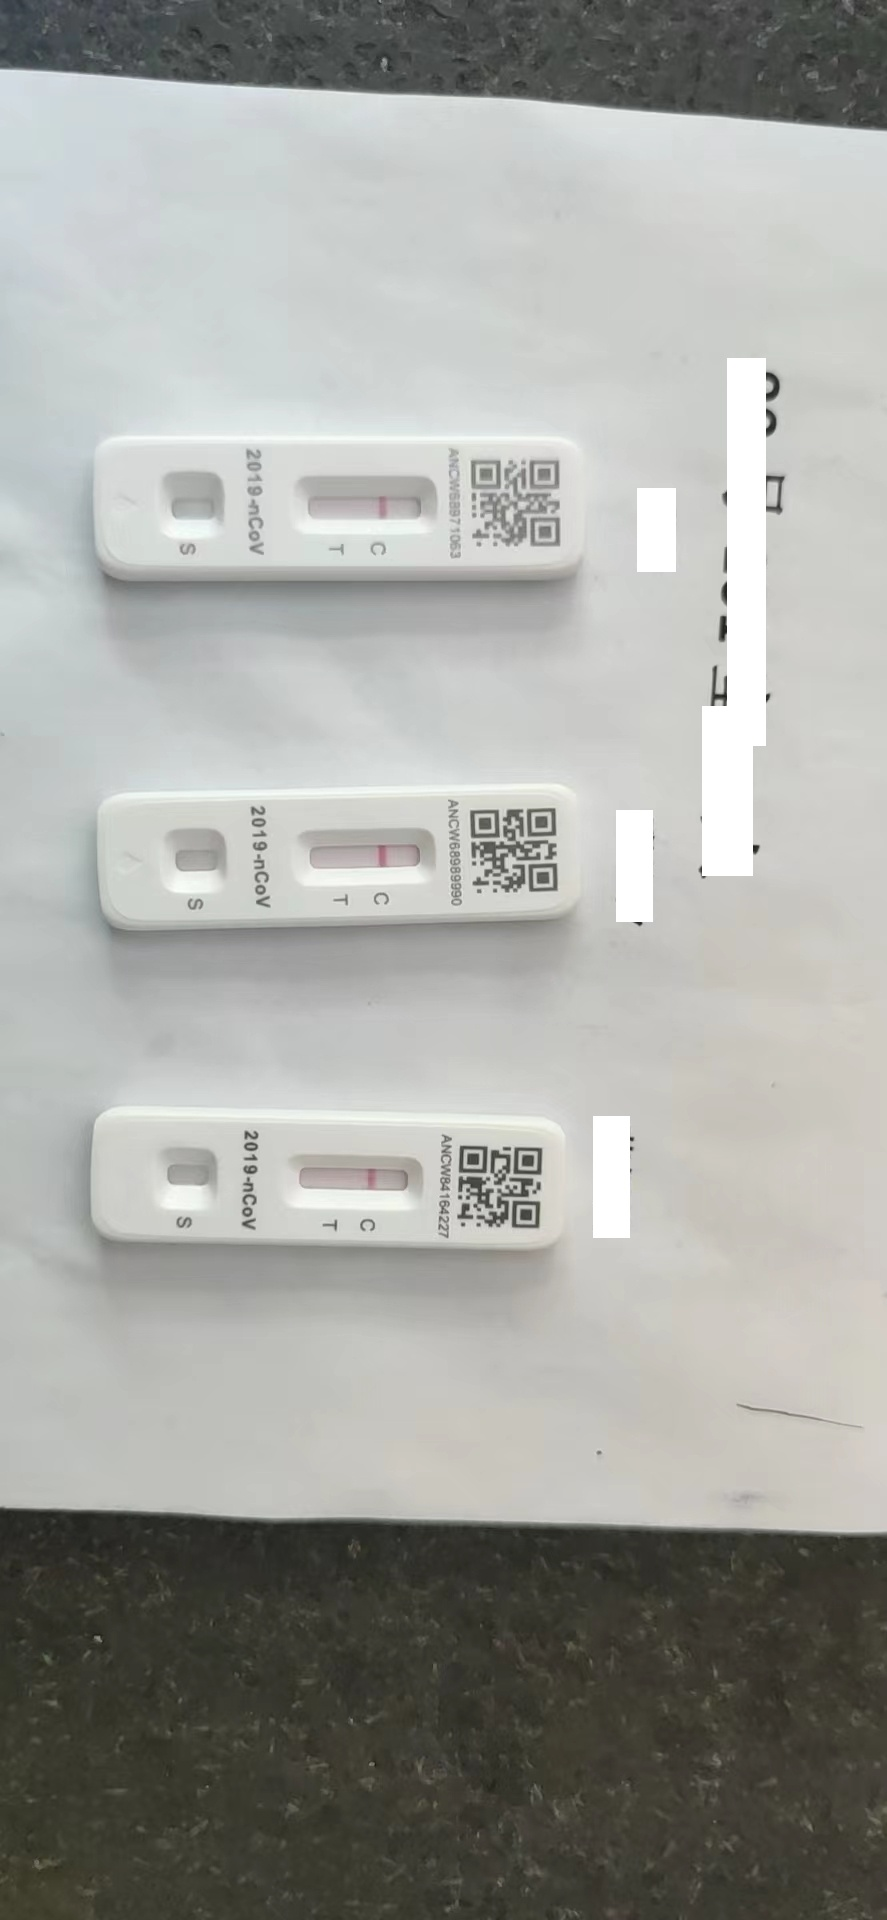negative: (296, 471, 445, 540), (298, 823, 437, 884), (284, 1153, 426, 1212)
